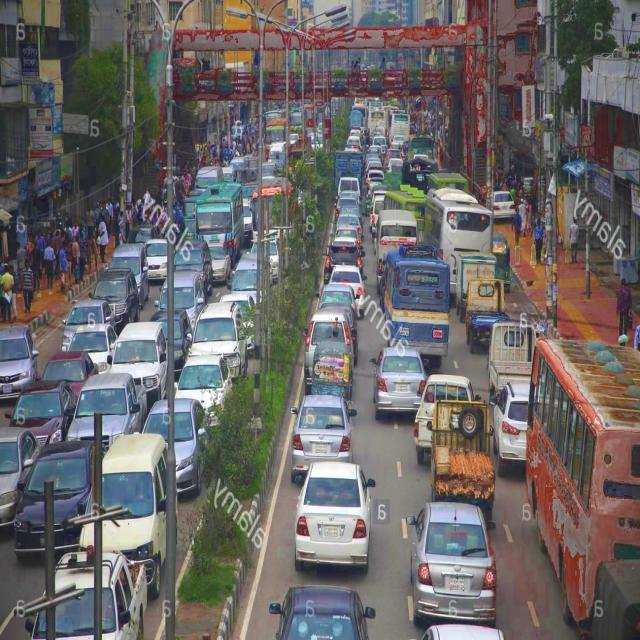black: (11, 441, 97, 557), (269, 584, 376, 638), (95, 267, 139, 325), (172, 240, 210, 288), (325, 238, 359, 284)
maroon: (11, 383, 78, 437), (39, 354, 99, 396)
silver: (406, 500, 498, 626), (289, 393, 356, 482), (71, 375, 145, 454), (144, 396, 204, 488), (376, 345, 427, 421), (303, 312, 352, 370), (0, 323, 35, 400), (61, 303, 115, 352), (69, 321, 117, 372), (112, 244, 148, 299), (232, 252, 270, 302), (331, 226, 361, 246)
white: (76, 433, 174, 580), (294, 459, 376, 572), (416, 375, 480, 457), (494, 378, 546, 477), (111, 320, 168, 394), (190, 303, 248, 373), (176, 355, 232, 425), (329, 267, 364, 314), (201, 246, 232, 282), (146, 238, 168, 282), (490, 187, 514, 220)
